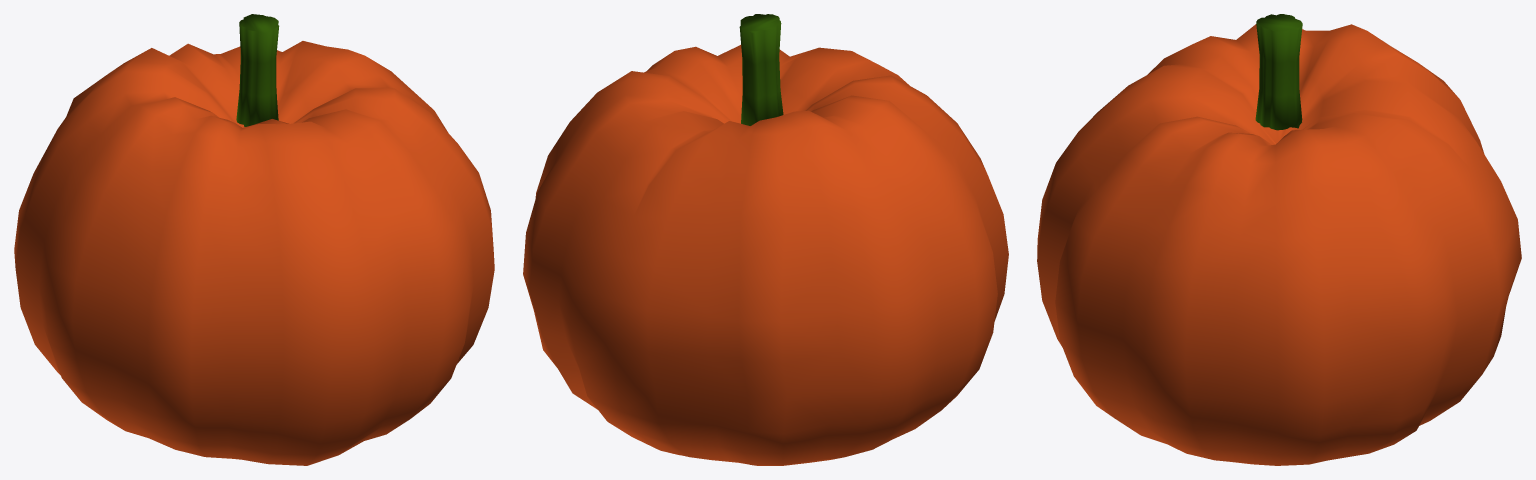
The model's file is pumpkin.glb.
The picture shows the model from 3 angles, left to right: view 1: azimuth 30°, elevation 25°; view 2: azimuth 150°, elevation 25°; view 3: azimuth 270°, elevation 25°; orthographic projection. The views are drawn at different scales.
Visible parts, largest first — view 1: pumpkin; view 2: pumpkin; view 3: pumpkin.
Boxes of the visible parts, bbox=[...] form: pumpkin: bbox=[14, 14, 494, 465]; pumpkin: bbox=[523, 14, 1008, 465]; pumpkin: bbox=[1037, 14, 1521, 465].
Bounding box in the file's own units: 0.4752 × 0.4263 × 0.4674.
